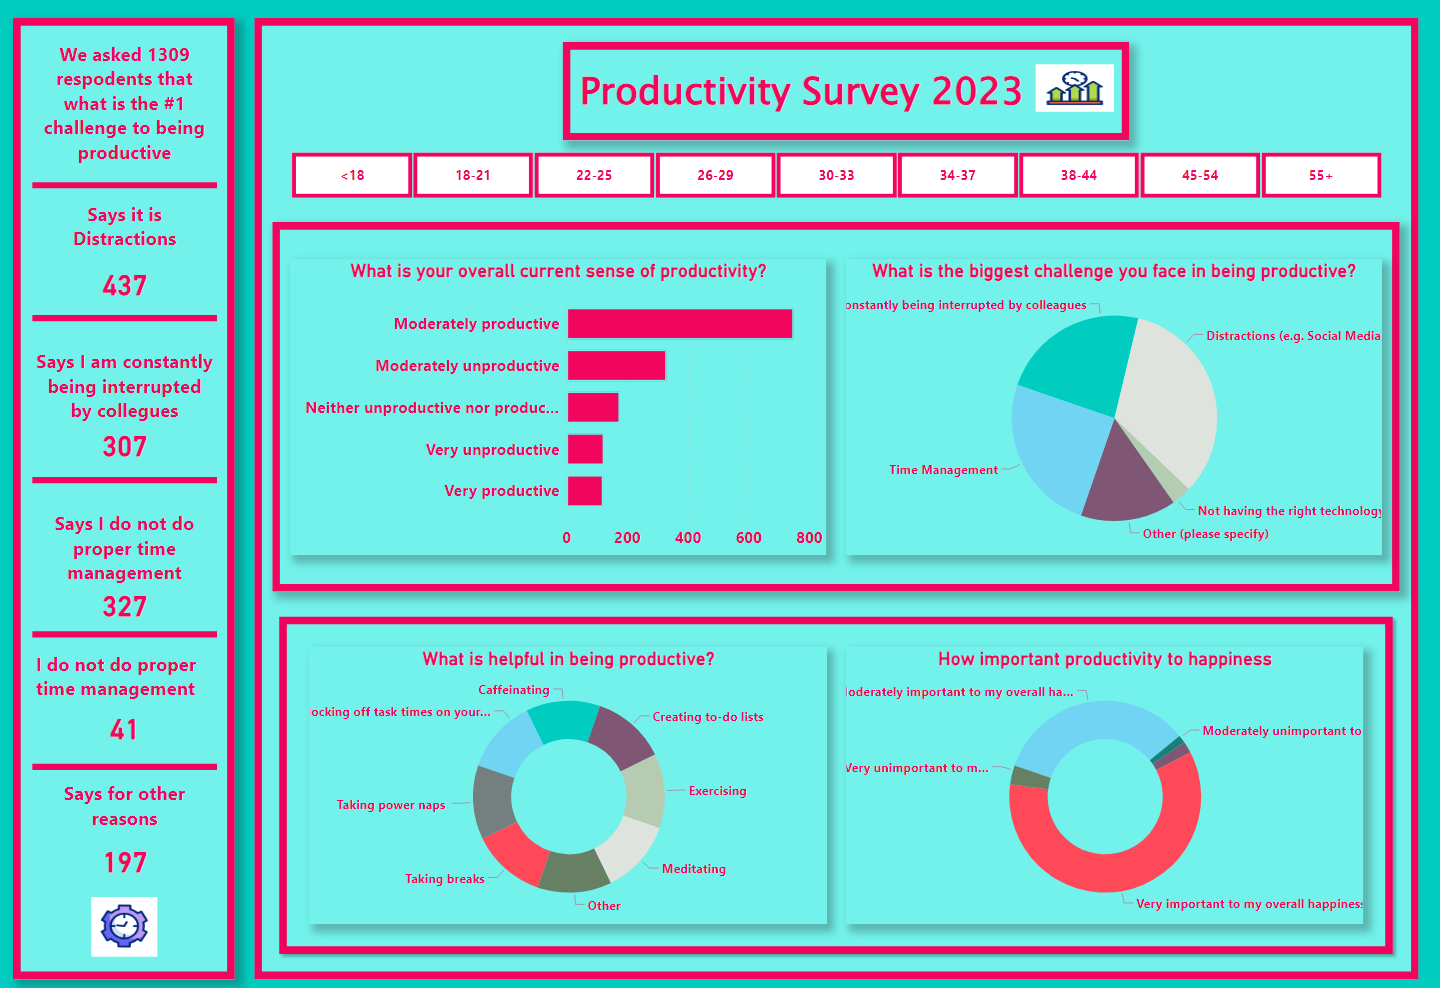

Layout of this report page (visuals, bound fields, positions):
{"tool":"powerbi","page":{"name":"Main","canvas":[1880,1290],"ordinal":0},"visuals":[{"type":"shape","box":[336,24,1512,1248],"z":0},{"type":"shape","box":[24,24,288,1248],"z":1000},{"type":"shape","box":[737.4,54.6,736,128],"z":2000},{"type":"textbox","box":[753.4,78.6,600,96],"z":3000},{"type":"clusteredColumnChart","fields":{"Category":["blank.Column1"]},"box":[1345.4,70.6,112,80],"z":4000},{"type":"slicer","fields":{"Values":["ProductivitySurvey2023.Age"]},"box":[360,192,1464,72],"z":5000},{"type":"textbox","box":[48,48,240,192],"z":6000},{"type":"shape","box":[48,216,240,48],"z":7000},{"type":"textbox","box":[48,256,240,96],"z":8000},{"type":"shape","box":[48,376.8,240,72],"z":9000},{"type":"textbox","box":[48,446.4,240,144],"z":10000},{"type":"shape","box":[48,588,240,72],"z":11000},{"type":"textbox","box":[48,657.6,240,120],"z":12000},{"type":"shape","box":[48,784,240,80],"z":13000},{"type":"textbox","box":[48,840,240,96],"z":14000},{"type":"shape","box":[48,960,240,72],"z":15000},{"type":"textbox","box":[48,1008,240,96],"z":16000},{"type":"card","fields":{"Values":["All Measures.Challenge Distraction"]},"box":[96,320,144,96],"z":17000},{"type":"card","fields":{"Values":["All Measures.Challenge Interuptions"]},"box":[96,528,144,96],"z":18000},{"type":"card","fields":{"Values":["All Measures.Challenge others"]},"box":[96,1080,144,72],"z":19000},{"type":"card","fields":{"Values":["All Measures.Challenge time"]},"box":[96,736,144,96],"z":20000},{"type":"shape","box":[360,288,1464,480],"z":20500},{"type":"card","fields":{"Values":["All Measures.Challenge Technology"]},"box":[96,896,144,96],"z":22000},{"type":"clusteredColumnChart","fields":{"Category":["All Measures.Column1"]},"box":[120,1152,96,96],"z":23000},{"type":"clusteredBarChart","title":"What is your overall current sense of productivity?","fields":{"Category":["ProductivitySurvey2023.How productive do you currently feel overall?"],"Y":["CountNonNull(ProductivitySurvey2023.RespondentID)"]},"box":[384,336,696,384],"z":24000},{"type":"pieChart","title":"What is the biggest challenge you face in being productive?","fields":{"Y":["CountNonNull(ProductivitySurvey2023.RespondentID)"],"Series":["ProductivitySurvey2023.What is the biggest challenge you face to being productive?"]},"box":[1104,336,696,384],"z":24001},{"type":"shape","box":[360,792,1464,456],"z":24002},{"type":"donutChart","title":"What is helpful in being productive?","fields":{"Y":["CountNonNull(ProductivitySurvey2023.RespondentID)"],"Series":["Most Helpful.helpful"]},"box":[408,840,672,360],"z":24003},{"type":"donutChart","title":"How important productivity to happiness","fields":{"Y":["CountNonNull(ProductivitySurvey2023.RespondentID)"],"Series":["ProductivitySurvey2023.How important would you say feeling productive is to your happiness?"]},"box":[1104,840,672,360],"z":24004}]}

Visuals, with their boxes in screenshot pixels (x1, y1, x2, y2), scaled from the page's 1880x1290 canvas onto the 1440x988 screenshot:
shape: locate(257, 18, 1415, 974)
shape: locate(18, 18, 239, 974)
shape: locate(565, 42, 1129, 140)
textbox: locate(577, 60, 1037, 134)
clusteredColumnChart - blank.Column1: locate(1031, 54, 1116, 115)
slicer - ProductivitySurvey2023.Age: locate(276, 147, 1397, 202)
textbox: locate(37, 37, 221, 184)
shape: locate(37, 165, 221, 202)
textbox: locate(37, 196, 221, 270)
shape: locate(37, 289, 221, 344)
textbox: locate(37, 342, 221, 452)
shape: locate(37, 450, 221, 505)
textbox: locate(37, 504, 221, 596)
shape: locate(37, 600, 221, 662)
textbox: locate(37, 643, 221, 717)
shape: locate(37, 735, 221, 790)
textbox: locate(37, 772, 221, 846)
card - All Measures.Challenge Distraction: locate(74, 245, 184, 319)
card - All Measures.Challenge Interuptions: locate(74, 404, 184, 478)
card - All Measures.Challenge others: locate(74, 827, 184, 882)
card - All Measures.Challenge time: locate(74, 564, 184, 637)
shape: locate(276, 221, 1397, 588)
card - All Measures.Challenge Technology: locate(74, 686, 184, 760)
clusteredColumnChart - All Measures.Column1: locate(92, 882, 165, 956)
"What is your overall current sense of productivity?" clusteredBarChart: locate(294, 257, 827, 551)
"What is the biggest challenge you face in being productive?" pieChart: locate(846, 257, 1379, 551)
shape: locate(276, 607, 1397, 956)
"What is helpful in being productive?" donutChart: locate(313, 643, 827, 919)
"How important productivity to happiness" donutChart: locate(846, 643, 1360, 919)
